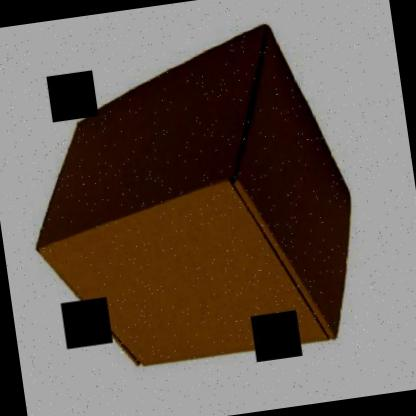box: (6, 13, 371, 386)
